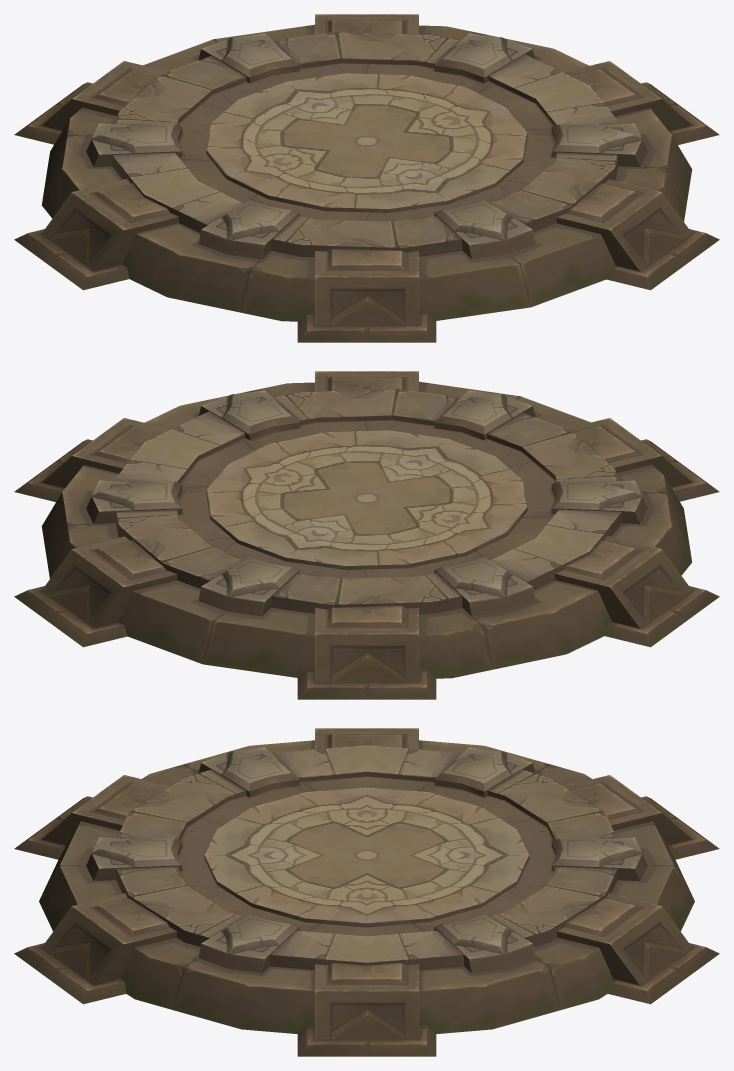
The model's file is Xuanjue_taizi.FBX.
3 views of the same model, one above another, from view 1: azimuth 30°, elevation 25°; view 2: azimuth 150°, elevation 25°; view 3: azimuth 270°, elevation 25° (orthographic).
Parts seen in each view (by area): view 1: Xuanjue_taizi; view 2: Xuanjue_taizi; view 3: Xuanjue_taizi.
Part boxes in pixels (x1,y1,x2,y2): Xuanjue_taizi: (14,14,719,342); Xuanjue_taizi: (14,371,719,699); Xuanjue_taizi: (14,728,719,1056).
Bounding box in the file's own units: 178 × 171 × 14.12.
